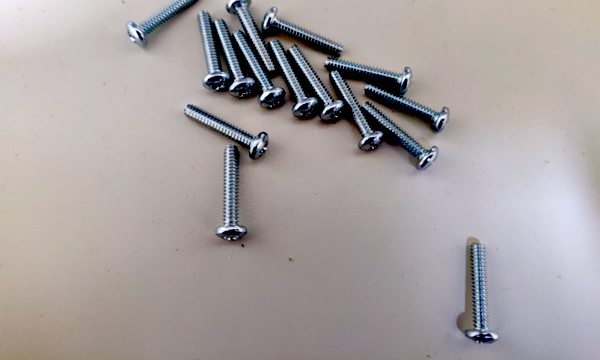longscrew: (363, 100, 440, 172), (362, 80, 449, 131), (184, 104, 268, 156), (267, 5, 348, 57), (233, 30, 285, 109), (330, 71, 384, 146), (291, 47, 345, 121), (269, 38, 317, 121), (324, 52, 416, 92), (212, 142, 246, 246), (229, 0, 277, 72), (126, 0, 204, 42), (467, 243, 499, 345), (216, 17, 254, 97), (191, 10, 227, 91)
